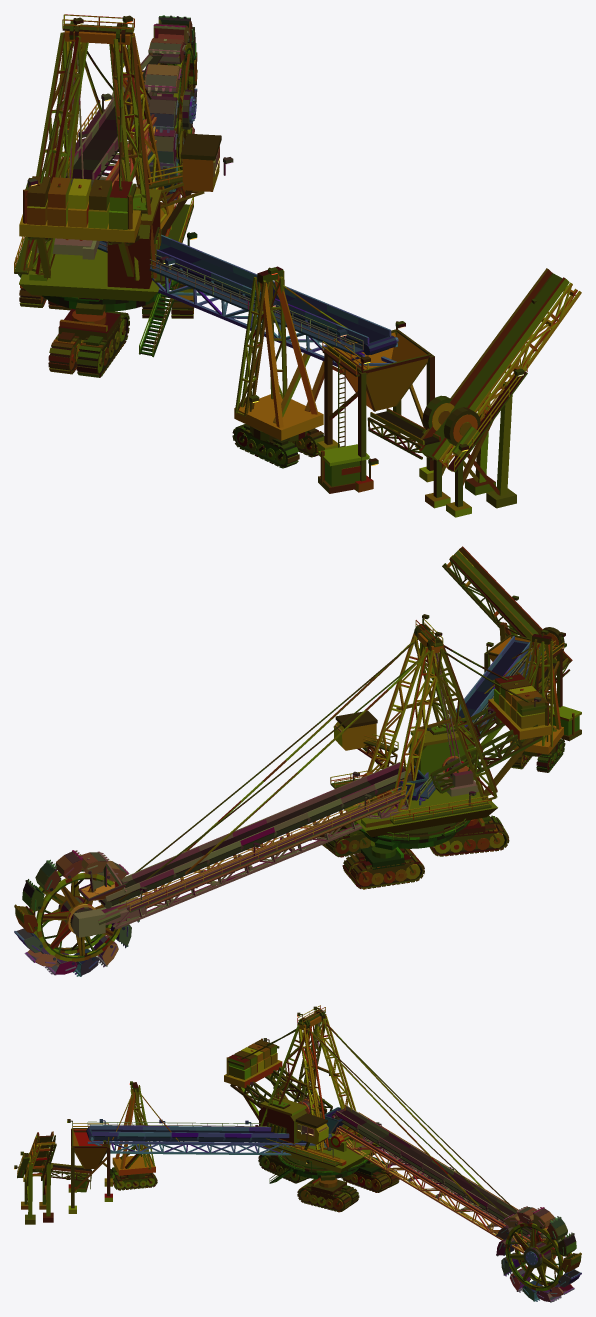
File: bwe.glb
3 views of the same model, one above another, from view 1: azimuth 30°, elevation 25°; view 2: azimuth 150°, elevation 25°; view 3: azimuth 270°, elevation 25° (orthographic). The views are drawn at different scales.
Parts seen in each view (by area): view 1: bwe_geo, bwe_super_geo, bwe_wheel_geo, bwe_boom_geo; view 2: bwe_super_geo, bwe_geo, bwe_boom_geo, bwe_wheel_geo; view 3: bwe_geo, bwe_super_geo, bwe_boom_geo, bwe_wheel_geo.
Boxes of the visible parts, x1=… form: bwe_geo: x1=15, y1=232, x2=581, y2=517; bwe_super_geo: x1=14, y1=14, x2=233, y2=301; bwe_wheel_geo: x1=143, y1=15, x2=197, y2=200; bwe_boom_geo: x1=60, y1=39, x2=166, y2=188; bwe_super_geo: x1=119, y1=614, x2=551, y2=900; bwe_geo: x1=317, y1=546, x2=581, y2=889; bwe_boom_geo: x1=67, y1=762, x2=412, y2=937; bwe_wheel_geo: x1=14, y1=850, x2=139, y2=976; bwe_geo: x1=14, y1=1081, x2=399, y2=1224; bwe_super_geo: x1=224, y1=1005, x2=522, y2=1231; bwe_boom_geo: x1=331, y1=1105, x2=561, y2=1259; bwe_wheel_geo: x1=496, y1=1206, x2=581, y2=1302.
Size of the model in its own units: 64.24 by 53.1 by 126.
